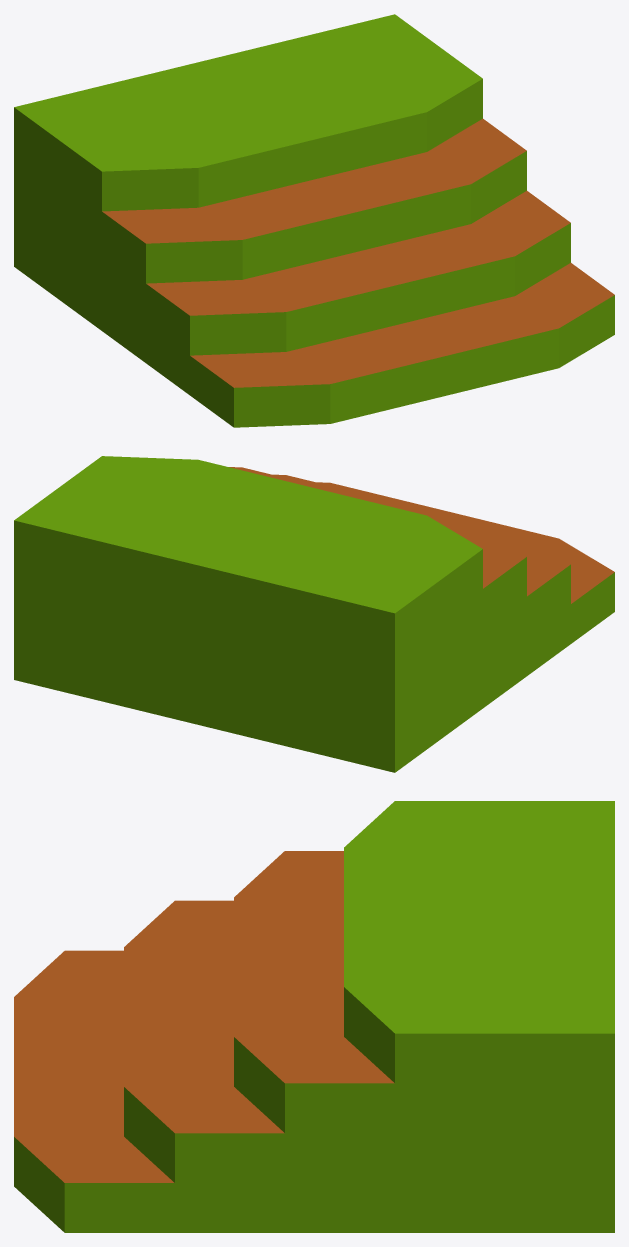
The model's file is TileGround_35.fbx.
3 views of the same model, one above another, from view 1: azimuth 30°, elevation 25°; view 2: azimuth 150°, elevation 25°; view 3: azimuth 270°, elevation 25° (orthographic). The views are drawn at different scales.
Parts seen in each view (by area): view 1: TileGround_35; view 2: TileGround_35; view 3: TileGround_35.
Part boxes in pixels (x1,y1,x2,y2): TileGround_35: (14,14,614,427); TileGround_35: (14,456,614,772); TileGround_35: (14,801,614,1232).
Bounding box in the file's own units: 500 × 200 × 546.
